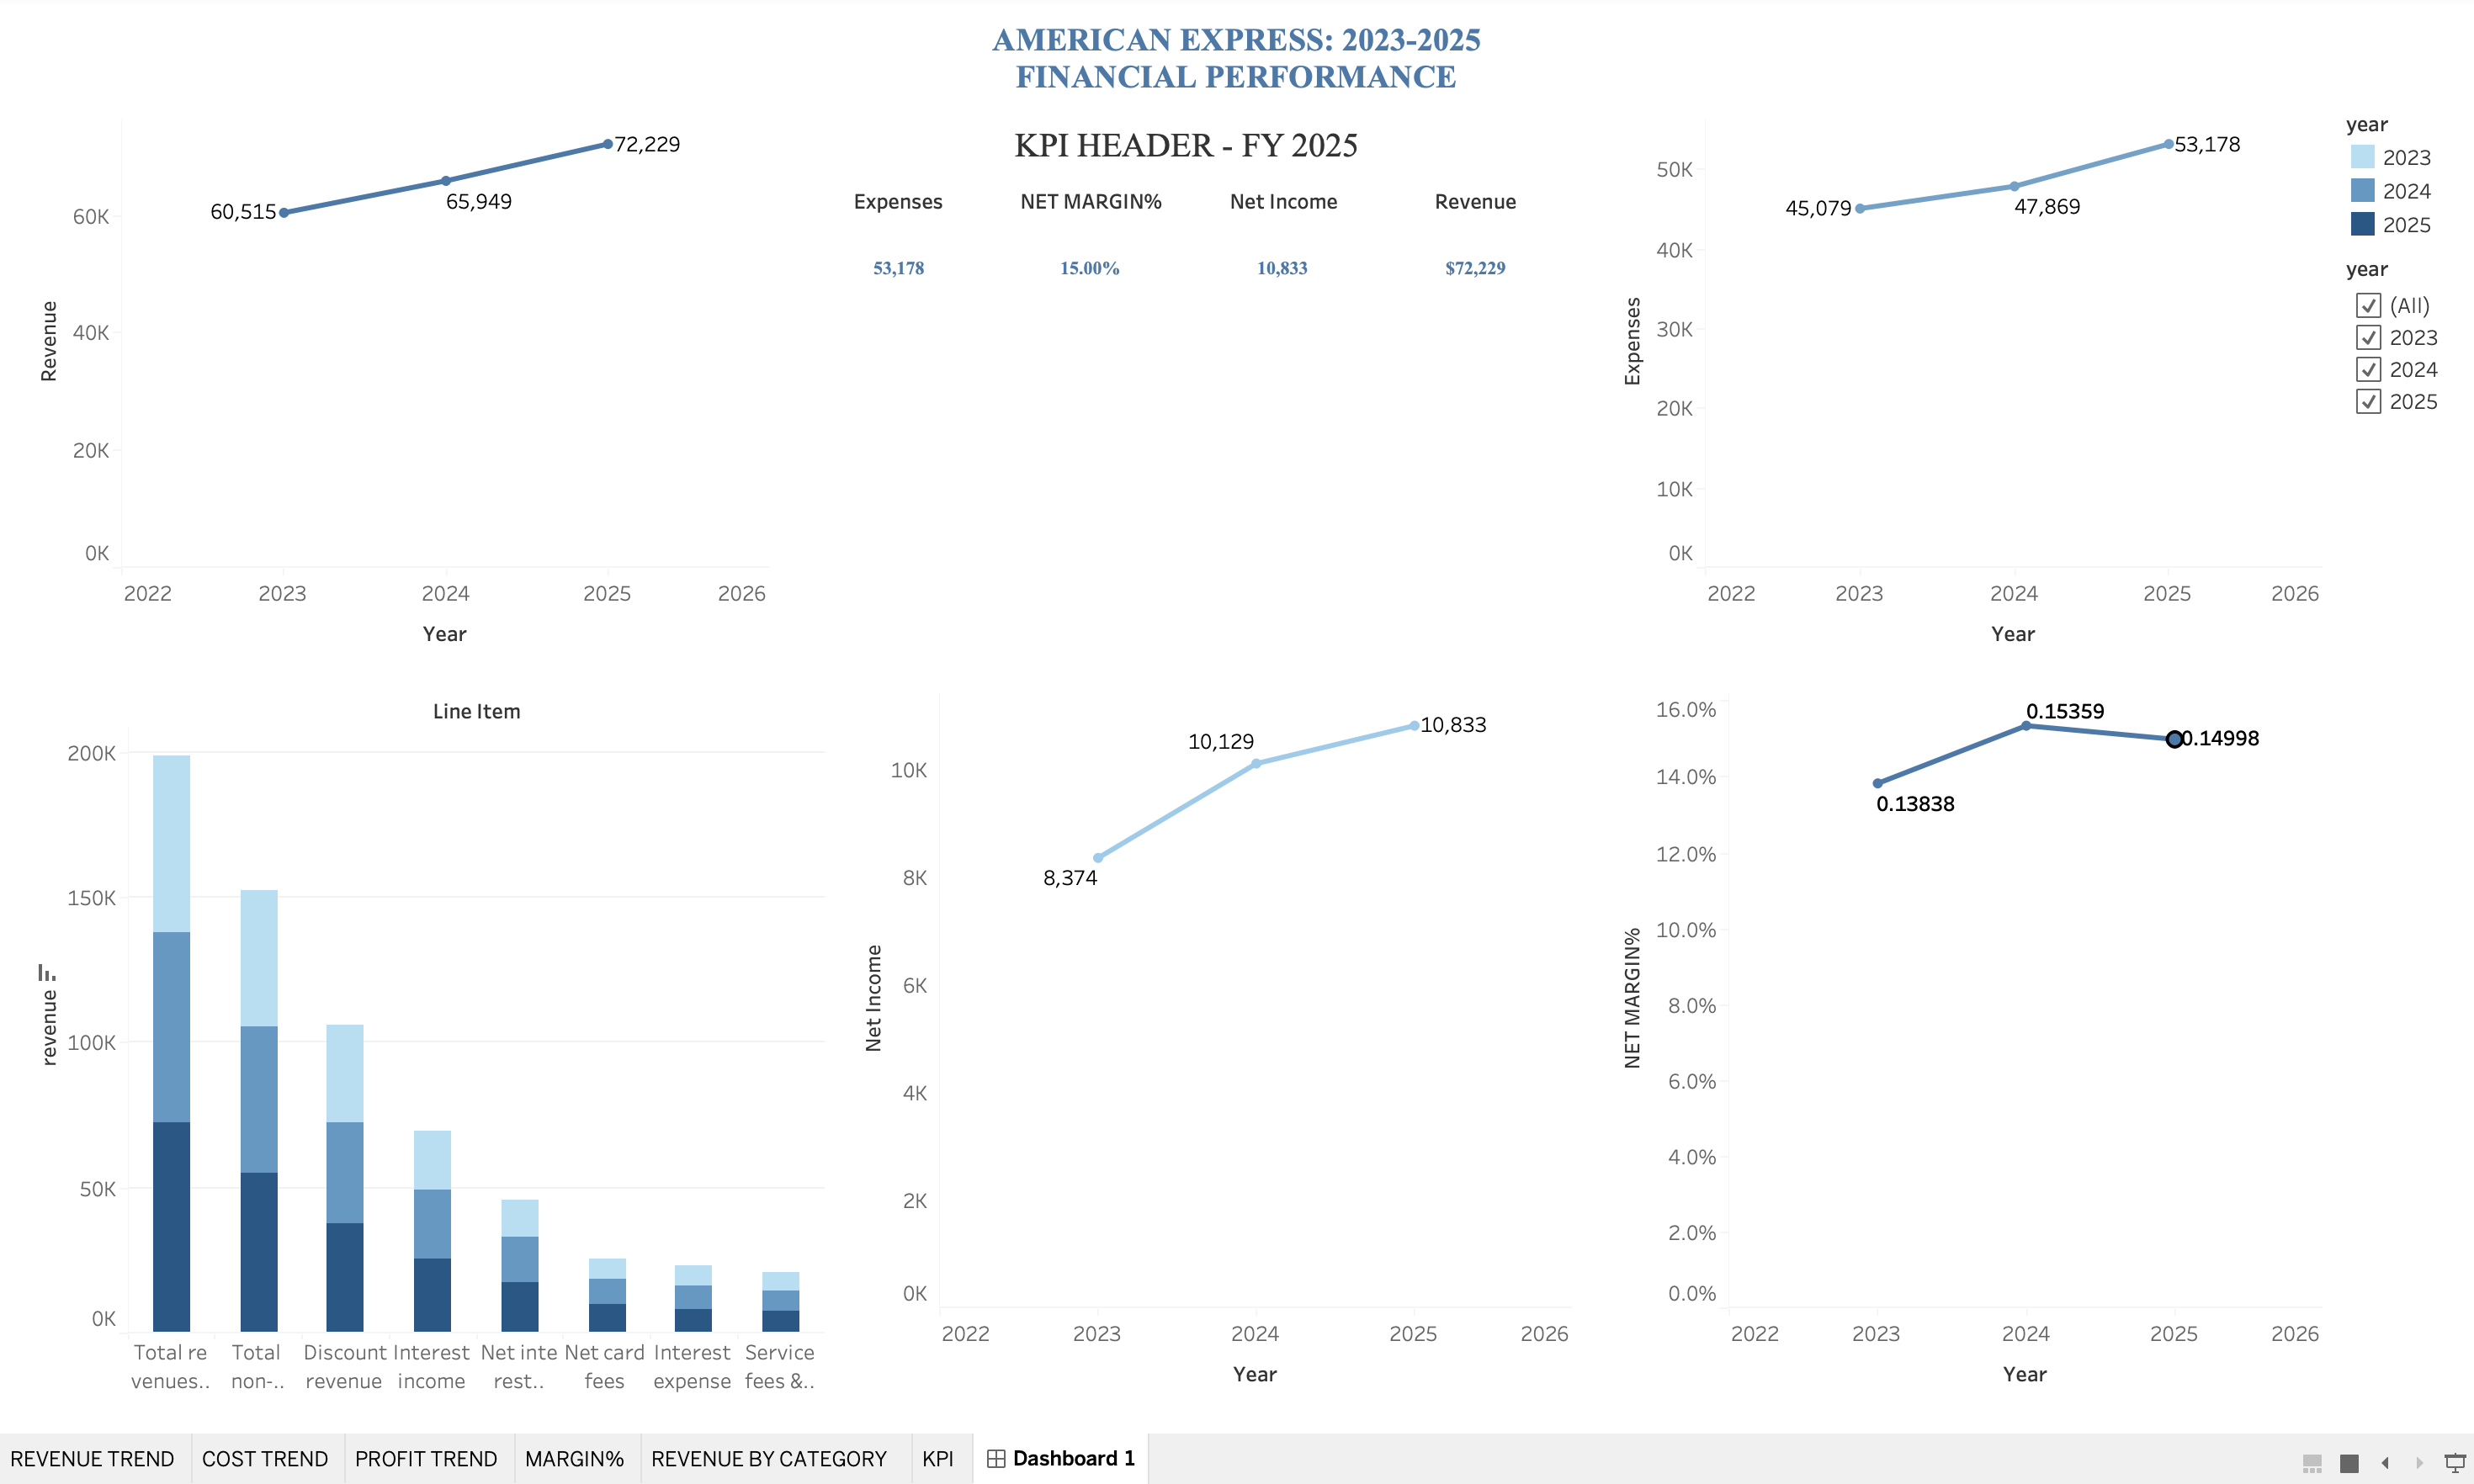

The dashboard page shown, as its layout file describes it:
{"tool":"tableau","page":{"name":"Dashboard 1","canvas":[1000,1000],"units":"permille","ordinal":0},"visuals":[{"type":"title","box":[6.8,11.7,986.4,61]},{"type":"worksheet","title":"REVENUE TREND","mark":"Line","rows":["Revenue"],"cols":["Year"],"box":[6.8,72.7,310.7,399.3]},{"type":"worksheet","title":"KPI ","mark":"Automatic","box":[317.5,72.7,324.8,399.3]},{"type":"worksheet","title":"COST TREND","mark":"Line","rows":["Expenses"],"cols":["Year"],"box":[642.3,72.7,303.3,399.3]},{"type":"legend","title":"REVENUE BY CATEGORY ","param":"[federated.0iu6tnm0awkp4f1g0paki1lwr12c].[none:Pivot Field Names:nk]","box":[945.6,72.7,47.6,100.8]},{"type":"filter","title":"REVENUE BY CATEGORY ","param":"[federated.0iu6tnm0awkp4f1g0paki1lwr12c].[none:Pivot Field Names:nk]","box":[945.6,173.5,47.6,126.6]},{"type":"worksheet","title":"REVENUE BY CATEGORY ","mark":"Bar","rows":["Pivot Field Values"],"cols":["Line Item"],"box":[6.8,471.9,333.6,516.3]},{"type":"worksheet","title":"PROFIT TREND","mark":"Line","rows":["Net Income"],"cols":["Year"],"box":[340.4,471.9,302,516.3]},{"type":"worksheet","title":"MARGIN%","mark":"Line","rows":["Calculation_281123177645686784"],"cols":["Year"],"box":[642.3,471.9,303.2,516.3]}]}

Visuals, with their boxes on the dashboard's canvas, which has no fixed pixel size, in thousandths of its width and height (x1, y1, x2, y2). These are canvas units, not pixel positions in the 2474x1484 screenshot, which may show the page scaled, cropped or inside an application window:
title: (7,12,993,73)
"REVENUE TREND" worksheet (Line marks): (7,73,318,472)
"KPI " worksheet: (318,73,642,472)
"COST TREND" worksheet (Line marks): (642,73,946,472)
"REVENUE BY CATEGORY " legend: (946,73,993,174)
"REVENUE BY CATEGORY " filter: (946,174,993,300)
"REVENUE BY CATEGORY " worksheet (Bar marks): (7,472,340,988)
"PROFIT TREND" worksheet (Line marks): (340,472,642,988)
"MARGIN%" worksheet (Line marks): (642,472,946,988)
